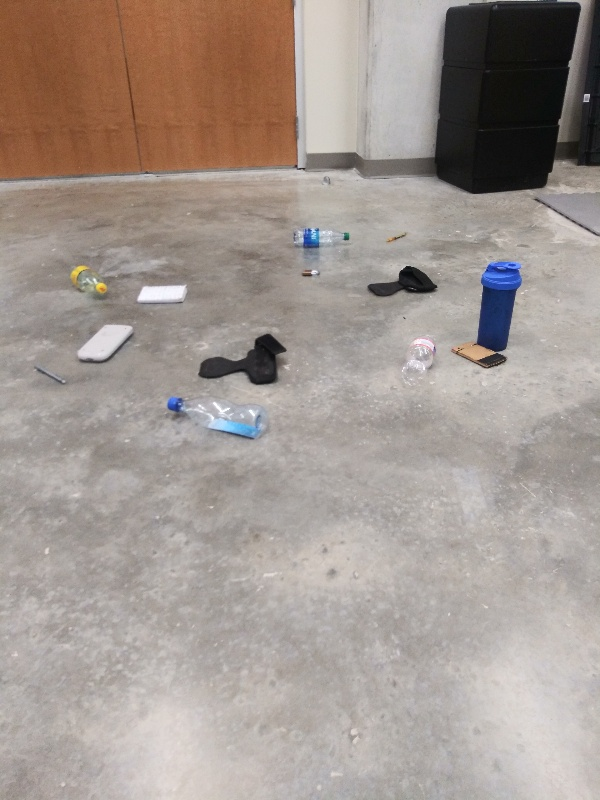bottle: (164, 392, 272, 441), (399, 327, 440, 391), (64, 261, 110, 301), (291, 226, 354, 252)
